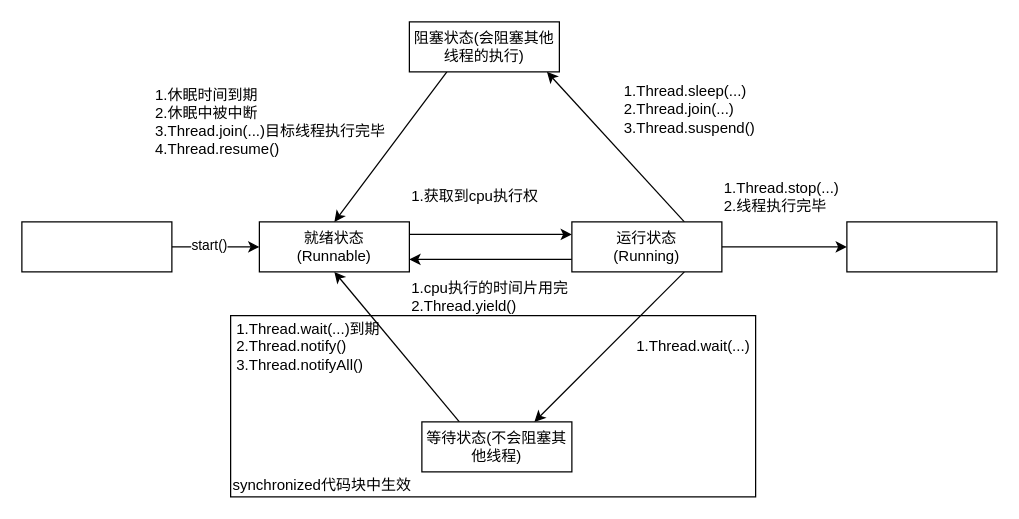
Image size: 1019x519. Some labels were removed from this diagram. Here are the shapes that lost their labels. From the top down, the centre of each, then its label:
the point at 96,246: 创建线程 (new)
the point at 921,246: 结束状态 (Terminated)
